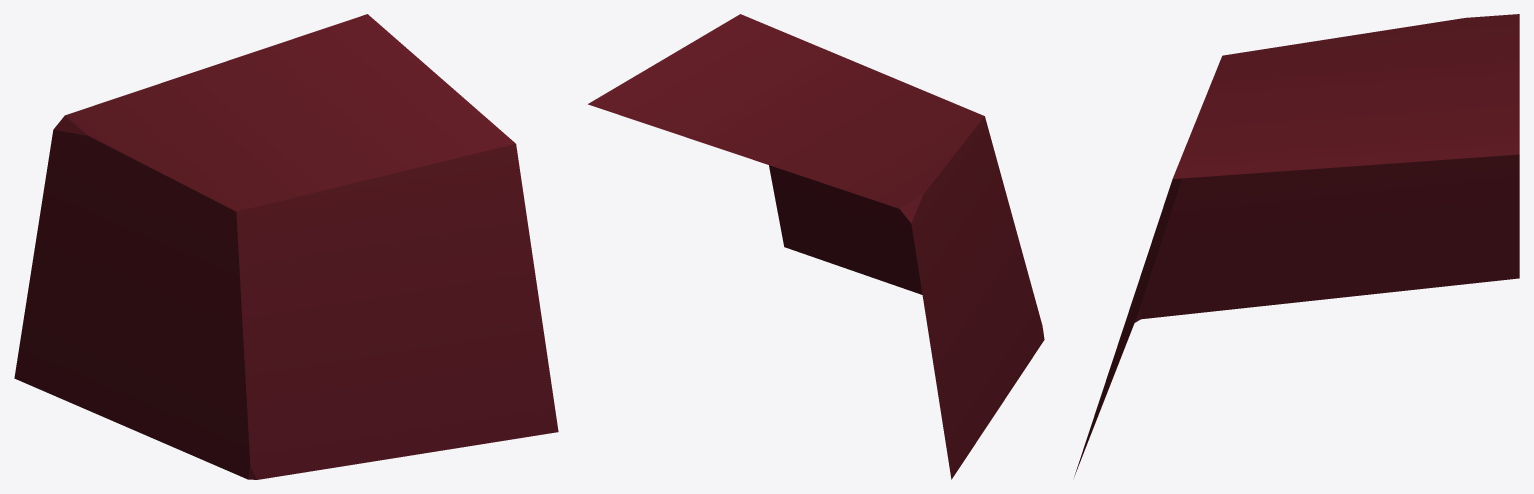
File: fragment_2.obj
3 views of the same model, side by side, from view 1: azimuth 30°, elevation 25°; view 2: azimuth 150°, elevation 25°; view 3: azimuth 270°, elevation 25° (orthographic). The views are drawn at different scales.
Parts seen in each view (by area): view 1: BossFragment2; view 2: BossFragment2; view 3: BossFragment2.
Boxes of the visible parts, box(x1,y1,x2,y2) form: BossFragment2: box(14, 14, 558, 479); BossFragment2: box(588, 14, 1044, 479); BossFragment2: box(1074, 14, 1519, 477).
Bounding box in the file's own units: 1.21 × 0.9134 × 1.14.
Materials: 1 (1 with a texture image).
